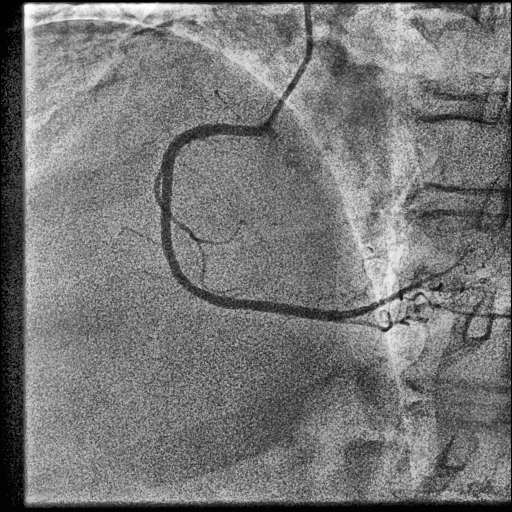pborca: (337, 275, 435, 318)
rca: (160, 123, 336, 322)
